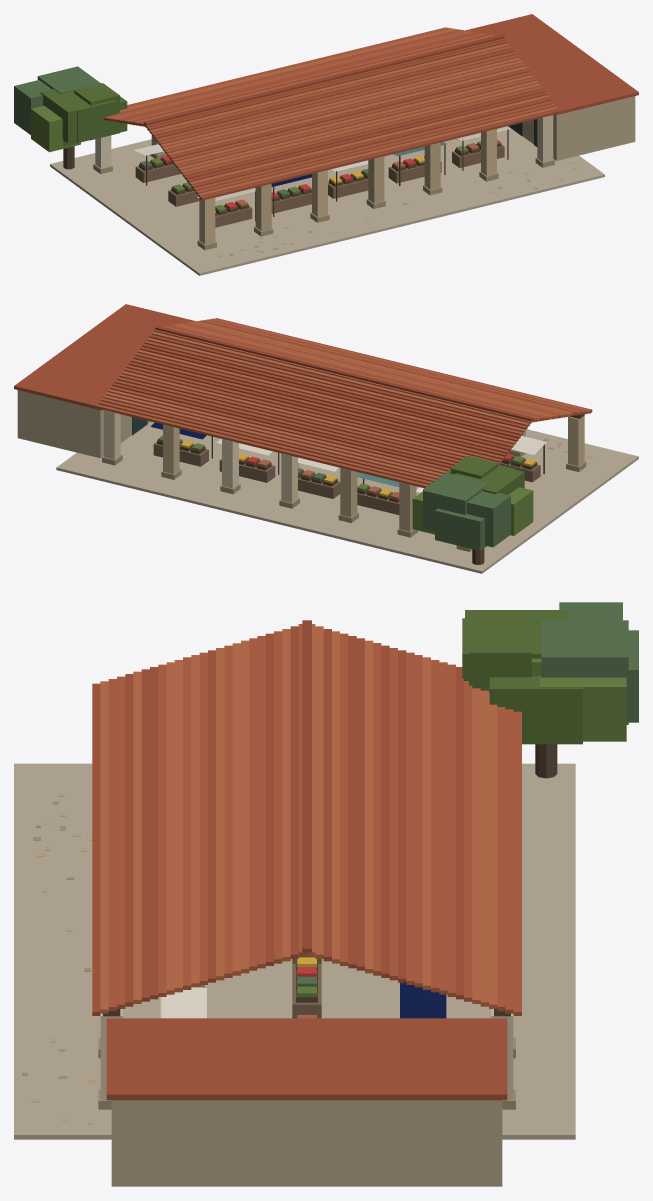
Rendered from merkez-pazari.glb.
3 views of the same model, one above another, from view 1: azimuth 30°, elevation 25°; view 2: azimuth 150°, elevation 25°; view 3: azimuth 270°, elevation 25° (orthographic). The views are drawn at different scales.
Visible parts, largest first — view 1: zemin, kiremit2, kiremit1, kiremit3, harc, asma2, ahsap, tas3, zeytin, tas2, kiremit4, ahsap_koyu (+4 smaller); view 2: kiremit1, zemin, kiremit2, kiremit3, zeytin, harc, ahsap, kiremit4, asma2, asma, tas3, tas2 (+5 smaller); view 3: kiremit2, kiremit1, zemin, kiremit3, harc, asma2, zeytin, asma, kiremit4, lacivert, tas1, bez (+2 smaller).
Boxes of the visible parts, left/top/right/bottom form: zemin: left=50, top=126, right=604, bottom=275; kiremit2: left=103, top=14, right=638, bottom=200; kiremit1: left=105, top=27, right=556, bottom=194; kiremit3: left=112, top=28, right=558, bottom=197; harc: left=522, top=96, right=635, bottom=160; asma2: left=40, top=83, right=127, bottom=146; ahsap: left=135, top=144, right=504, bottom=227; tas3: left=151, top=136, right=578, bottom=256; zeytin: left=14, top=66, right=368, bottom=196; tas2: left=199, top=129, right=496, bottom=244; kiremit4: left=143, top=34, right=504, bottom=125; ahsap_koyu: left=63, top=128, right=508, bottom=221; kiremit1: left=96, top=318, right=587, bottom=488; zemin: left=56, top=421, right=638, bottom=573; kiremit2: left=14, top=304, right=592, bottom=468; kiremit3: left=103, top=318, right=589, bottom=479; zeytin: left=158, top=435, right=510, bottom=550; harc: left=17, top=390, right=150, bottom=458; ahsap: left=153, top=442, right=540, bottom=514; kiremit4: left=155, top=325, right=533, bottom=421; asma2: left=423, top=455, right=524, bottom=494; asma: left=179, top=439, right=533, bottom=535; tas3: left=340, top=430, right=591, bottom=531; tas2: left=163, top=416, right=584, bottom=473; kiremit2: left=92, top=626, right=507, bottom=1100; kiremit1: left=108, top=624, right=521, bottom=1015; zemin: left=14, top=763, right=575, bottom=1139; kiremit3: left=100, top=624, right=497, bottom=1013; harc: left=111, top=1100, right=502, bottom=1186; asma2: left=462, top=610, right=582, bottom=744; zeytin: left=297, top=602, right=638, bottom=986; asma: left=297, top=658, right=626, bottom=996; kiremit4: left=302, top=620, right=311, bottom=953; lacivert: left=400, top=982, right=446, bottom=1018; tas1: left=100, top=1009, right=513, bottom=1099; bez: left=160, top=987, right=206, bottom=1018.
Size of the model in its own units: 43.39 by 7.65 by 25.59.
